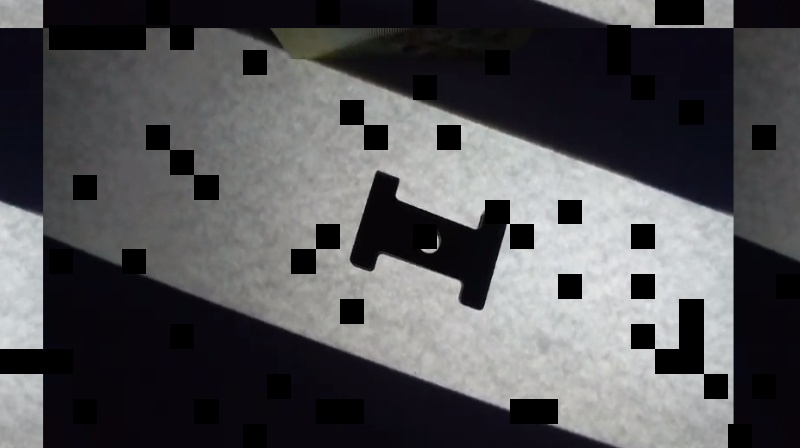O002: (345, 170, 509, 313)
